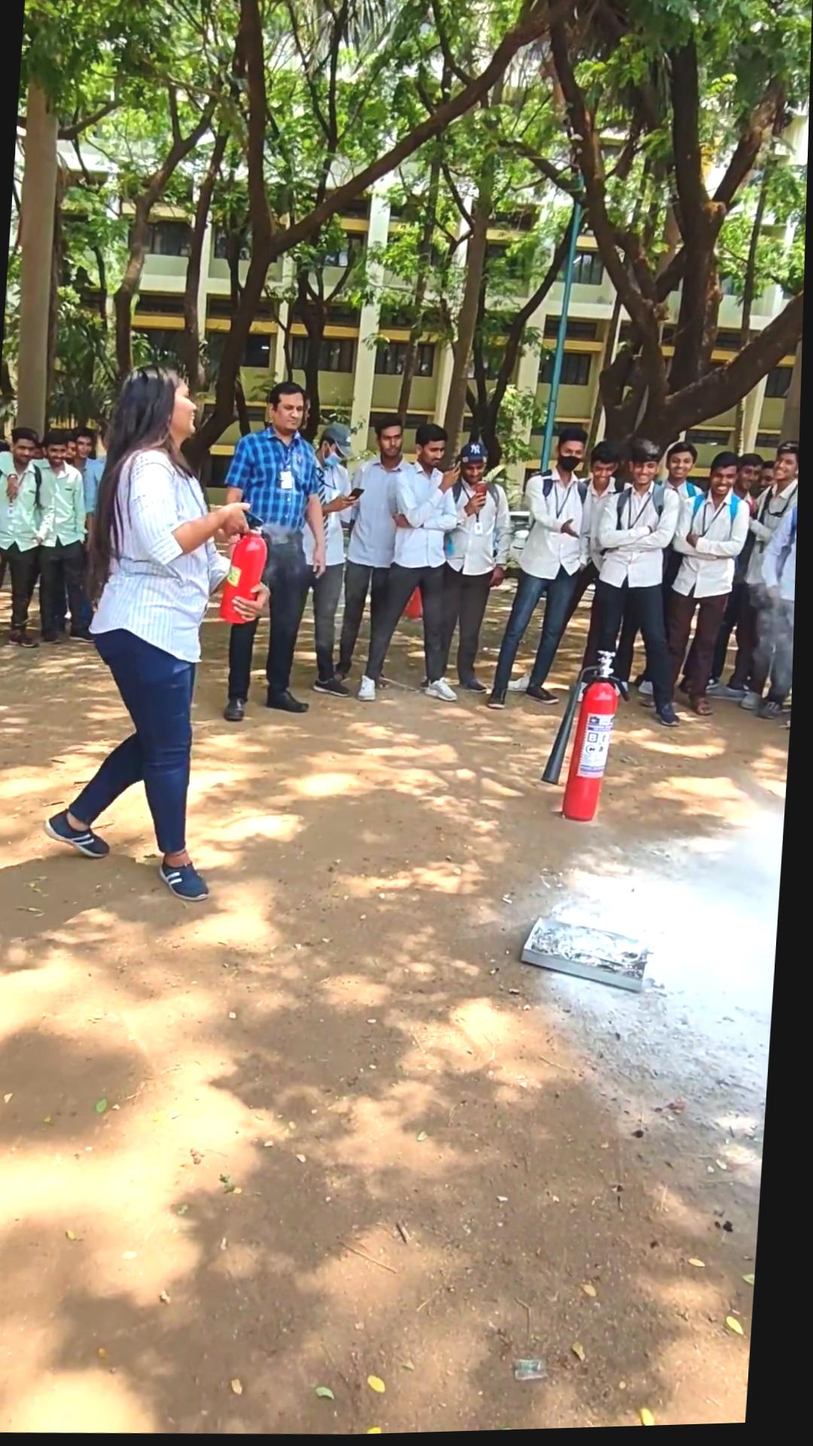FireExtinguisher: (553, 638, 673, 854), (217, 511, 297, 645)
